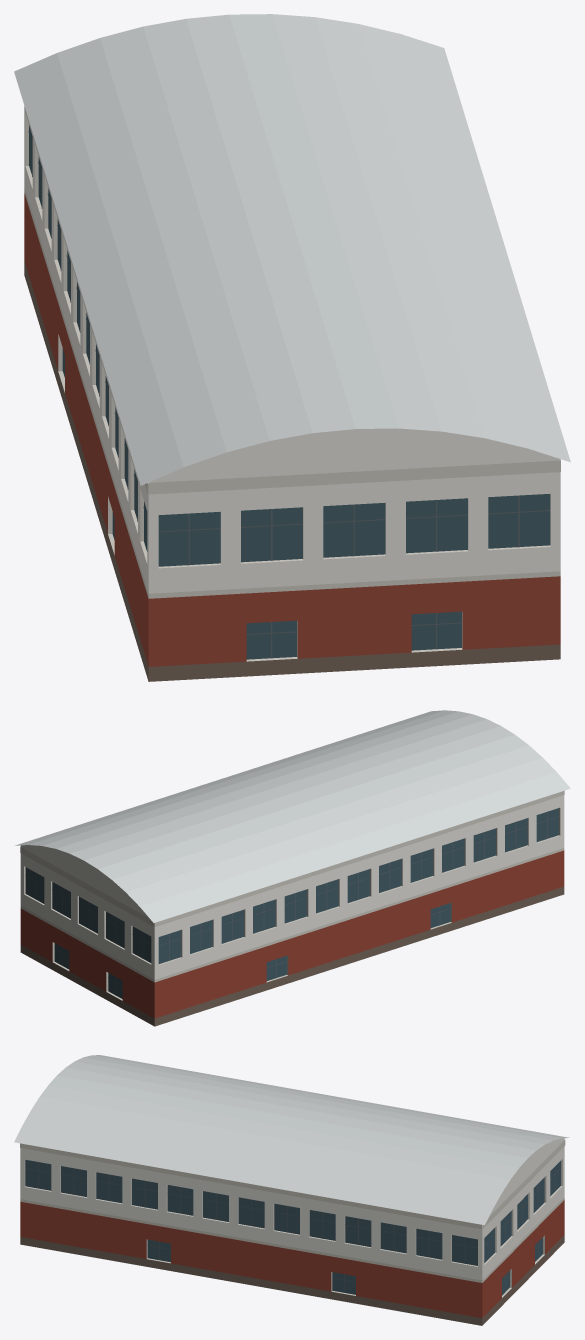
3 renders of one model, top to bottom at view 1: azimuth 30°, elevation 25°; view 2: azimuth 150°, elevation 25°; view 3: azimuth 270°, elevation 25°, orthographic. The views are drawn at different scales.
Visible parts, largest first — view 1: hall2__roof-metal, hall2__wall-plaster, hall2__brick, hall2__glass, hall2__trim-concrete, hall2__base-stone, hall2__frame; view 2: hall2__roof-metal, hall2__wall-plaster, hall2__brick, hall2__glass, hall2__trim-concrete, hall2__base-stone, hall2__frame; view 3: hall2__roof-metal, hall2__wall-plaster, hall2__brick, hall2__glass, hall2__trim-concrete, hall2__base-stone, hall2__frame.
Boxes of the visible parts, <box> form: hall2__roof-metal: <box>14,14,570,485</box>; hall2__wall-plaster: <box>24,106,560,593</box>; hall2__brick: <box>24,193,560,666</box>; hall2__glass: <box>29,125,550,659</box>; hall2__trim-concrete: <box>24,113,560,661</box>; hall2__base-stone: <box>24,261,560,681</box>; hall2__frame: <box>28,131,550,658</box>; hall2__roof-metal: <box>15,710,570,922</box>; hall2__wall-plaster: <box>20,795,564,979</box>; hall2__brick: <box>20,850,564,1018</box>; hall2__glass: <box>25,808,558,998</box>; hall2__trim-concrete: <box>20,790,564,1000</box>; hall2__base-stone: <box>20,886,564,1026</box>; hall2__frame: <box>25,811,559,995</box>; hall2__roof-metal: <box>14,1055,569,1225</box>; hall2__wall-plaster: <box>20,1138,564,1280</box>; hall2__brick: <box>20,1200,564,1317</box>; hall2__glass: <box>25,1159,560,1295</box>; hall2__trim-concrete: <box>20,1140,565,1297</box>; hall2__base-stone: <box>20,1235,564,1325</box>; hall2__frame: <box>25,1162,560,1292</box>.
Bounding box in the file's own units: 42.6 × 14.77 × 58.88.
